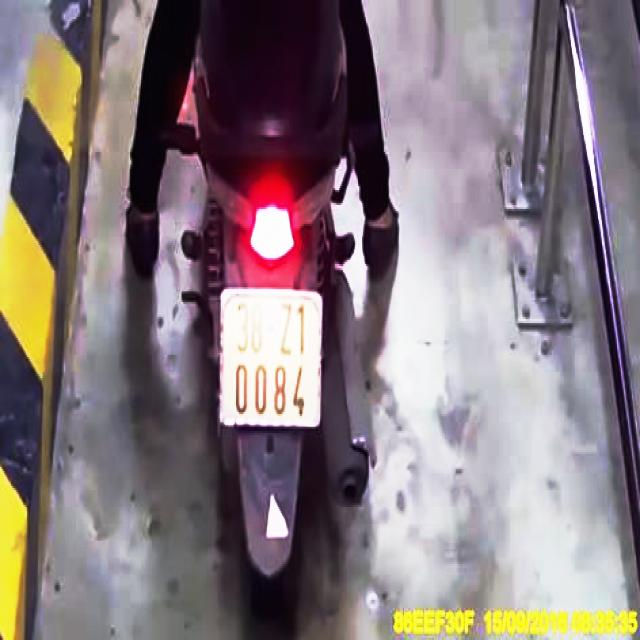license_plate: (222, 294, 322, 429)
